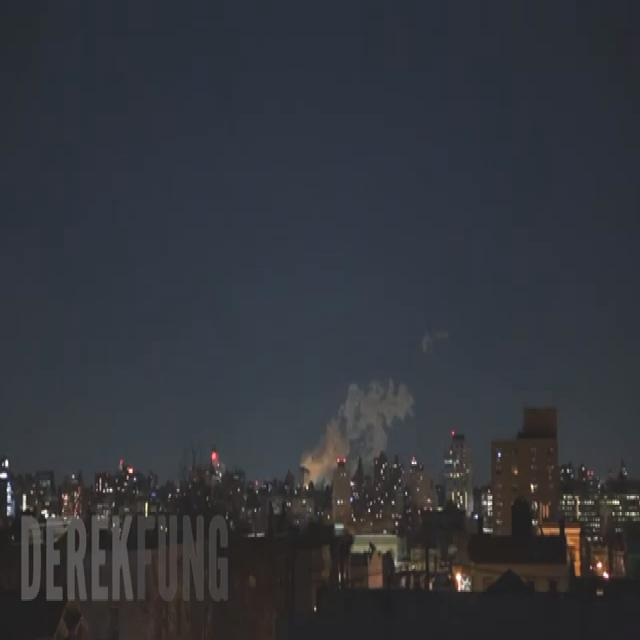smoke: (301, 379, 413, 482)
